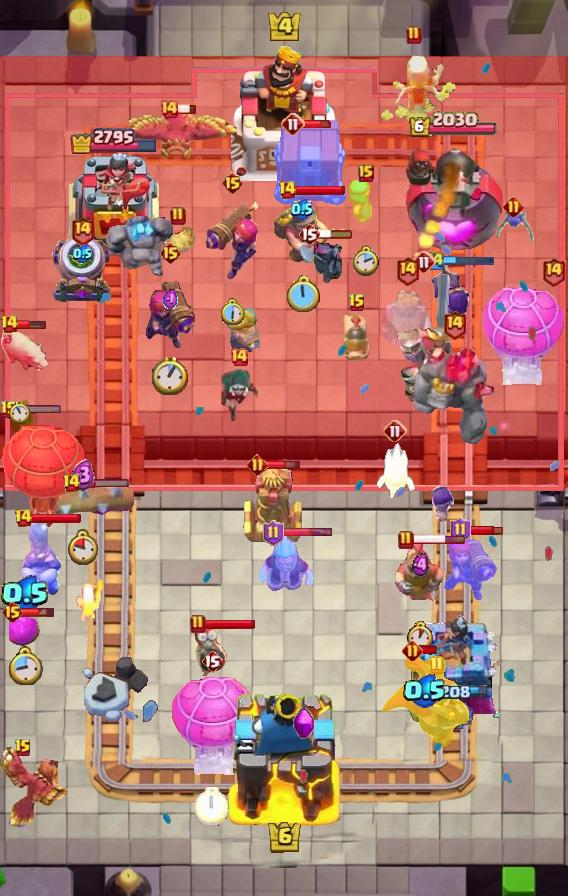bandit: (217, 369, 261, 425)
bar: (444, 254, 496, 267), (204, 618, 256, 630), (30, 512, 82, 524), (294, 184, 346, 196), (412, 534, 466, 545), (281, 527, 333, 538), (79, 478, 130, 489), (11, 404, 62, 415), (266, 458, 301, 471), (318, 228, 354, 240), (21, 606, 56, 618), (468, 524, 503, 536), (11, 319, 47, 330), (302, 119, 334, 129), (177, 103, 197, 115), (420, 644, 439, 656)
bar-level: (442, 309, 467, 340), (541, 256, 566, 287), (395, 255, 420, 286), (70, 215, 95, 246), (383, 419, 407, 443), (412, 250, 436, 274), (281, 112, 305, 136), (1, 600, 24, 624), (159, 241, 182, 265), (221, 171, 244, 195), (263, 520, 284, 546), (450, 517, 471, 543), (201, 649, 223, 673), (298, 222, 320, 246), (402, 640, 423, 661), (247, 454, 268, 475), (503, 196, 524, 217), (426, 250, 446, 271), (229, 347, 249, 367), (159, 99, 179, 119), (14, 508, 33, 528), (62, 473, 81, 493), (0, 314, 19, 334), (278, 180, 297, 200), (14, 738, 32, 758), (0, 400, 18, 420), (348, 293, 366, 313), (190, 614, 206, 634), (398, 530, 414, 550), (170, 206, 186, 226), (406, 25, 422, 45), (358, 164, 374, 182)
bat-evolution: (491, 207, 535, 247)
bomber: (192, 622, 228, 680)
bomber-evolution: (427, 264, 473, 328)
cannoneer-tower: (403, 138, 504, 256)
clock: (152, 356, 188, 395), (285, 275, 320, 315), (8, 646, 43, 685), (195, 787, 229, 826), (68, 529, 99, 565), (406, 621, 435, 652), (353, 245, 380, 277), (219, 298, 245, 326), (9, 401, 30, 424)
elite-barbarian: (224, 306, 260, 353)
elixir: (1, 575, 50, 613), (403, 674, 447, 708), (71, 459, 95, 492), (291, 198, 313, 220), (412, 553, 429, 577), (73, 244, 92, 263), (163, 288, 178, 311)
elixir-golem-small: (9, 616, 41, 646)
evolution-symbol: (293, 707, 316, 741)
firecracker-evolution: (202, 197, 262, 283), (143, 264, 197, 352), (444, 531, 500, 603)
golemite: (102, 211, 174, 279)
hog: (0, 325, 52, 375)
ice-spirit: (375, 442, 415, 500)
ice-wizard: (256, 532, 318, 596)
king-tower: (227, 688, 342, 826), (231, 43, 337, 181)
lava-pup: (161, 226, 195, 258)
miner: (271, 193, 333, 265)
mini-pekka: (311, 237, 344, 284)
mortar-evolution: (50, 235, 114, 305)
queen-tower: (405, 614, 502, 731), (69, 152, 159, 256)
ram-rider: (18, 522, 62, 604)
rascal-girl: (348, 178, 384, 230)
royal-ghost: (379, 288, 435, 354)
royal-hog: (341, 309, 373, 367)
royal-recruit: (395, 537, 445, 603)
skeleton: (75, 578, 105, 624)
skeleton-evolution: (430, 484, 456, 522)
tesla: (242, 463, 304, 547)
the-log: (32, 481, 135, 519)
tower-bar: (69, 126, 159, 154), (408, 111, 498, 139), (412, 681, 494, 703)
